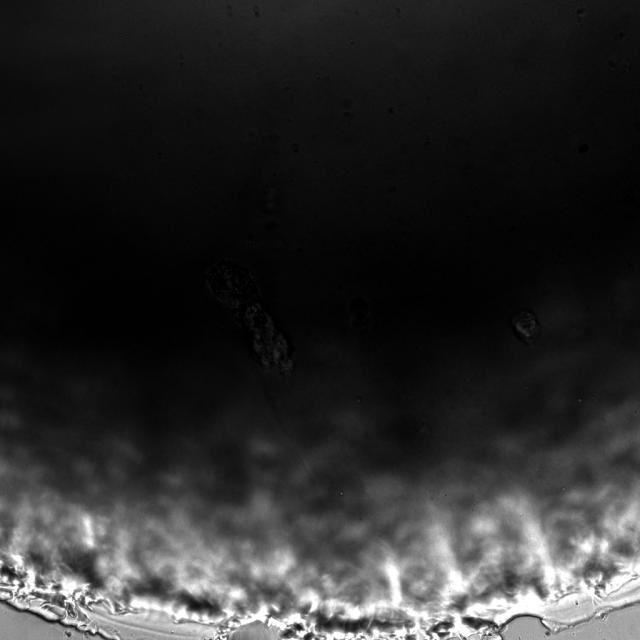organoid: (206, 260, 293, 376), (511, 309, 540, 344)
